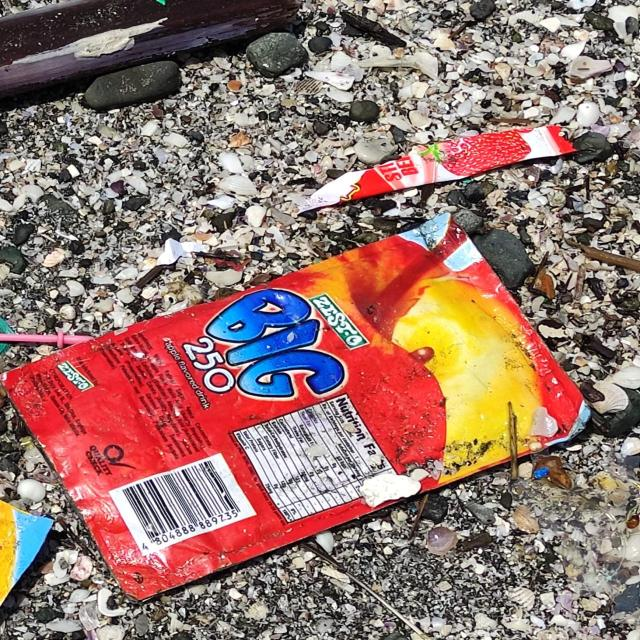plastic_waste: (0, 216, 596, 602), (292, 122, 576, 212)
